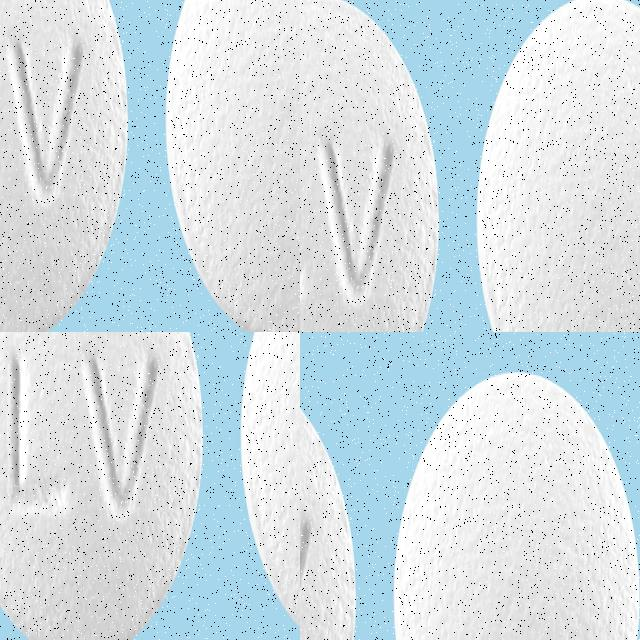Flomox: (105, 472, 277, 640)
Levobay: (392, 370, 640, 640)
Samsung Clarithromycin Tab-500mg: (455, 0, 640, 244), (300, 173, 489, 332)
Vfend Tab: (175, 0, 300, 332), (0, 0, 124, 332)
